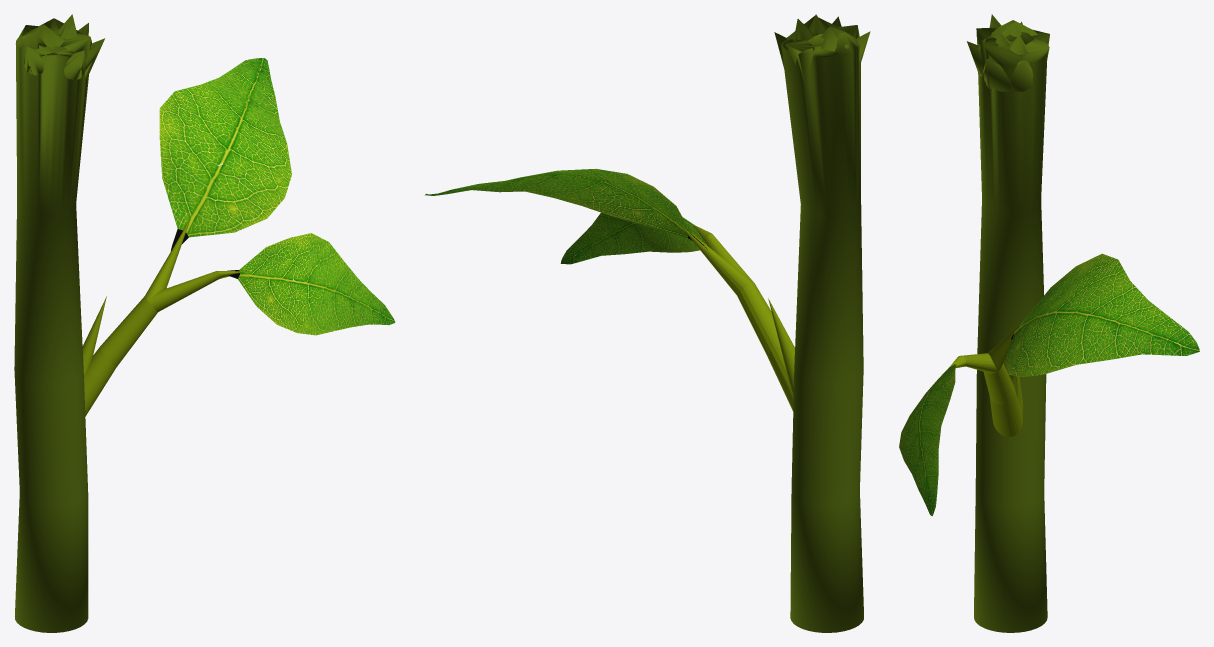
The model's file is stem.glb.
The picture shows the model from 3 angles, left to right: view 1: azimuth 30°, elevation 25°; view 2: azimuth 150°, elevation 25°; view 3: azimuth 270°, elevation 25°; orthographic projection.
Visible parts, largest first — view 1: Circle, Plane, Plane.001, Circle.001; view 2: Circle, Plane, Circle.001, Plane.001; view 3: Circle, Plane, Plane.001, Circle.001.
Part boxes in pixels (box(x1,y1,x2,y2)): Circle: box(14, 14, 104, 632); Plane: box(159, 58, 291, 250); Plane.001: box(227, 233, 395, 335); Circle.001: box(82, 218, 248, 416); Circle: box(774, 14, 870, 632); Plane: box(425, 169, 707, 249); Circle.001: box(681, 225, 794, 411); Plane.001: box(560, 212, 706, 264); Circle: box(967, 14, 1049, 632); Plane: box(1004, 253, 1199, 377); Plane.001: box(899, 364, 956, 516); Circle.001: box(948, 325, 1023, 436).
Bounding box in the file's own units: 7.55 × 12.59 × 5.76.
4 materials, 2 textured.
